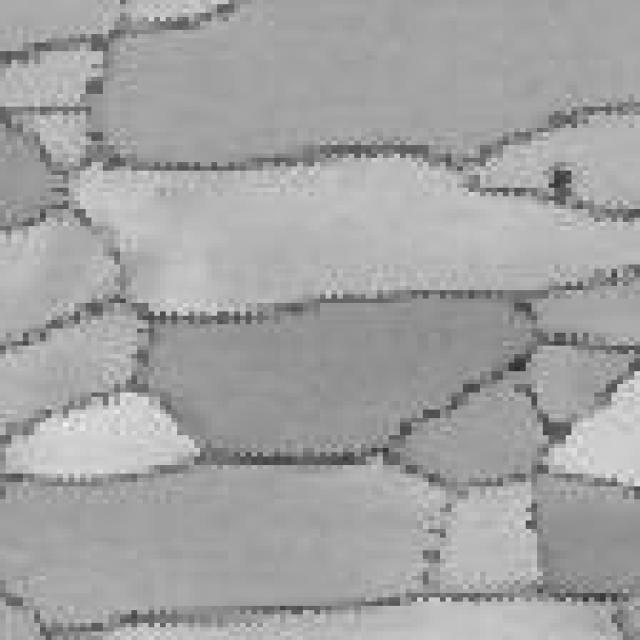good_void: (541, 164, 584, 211)
